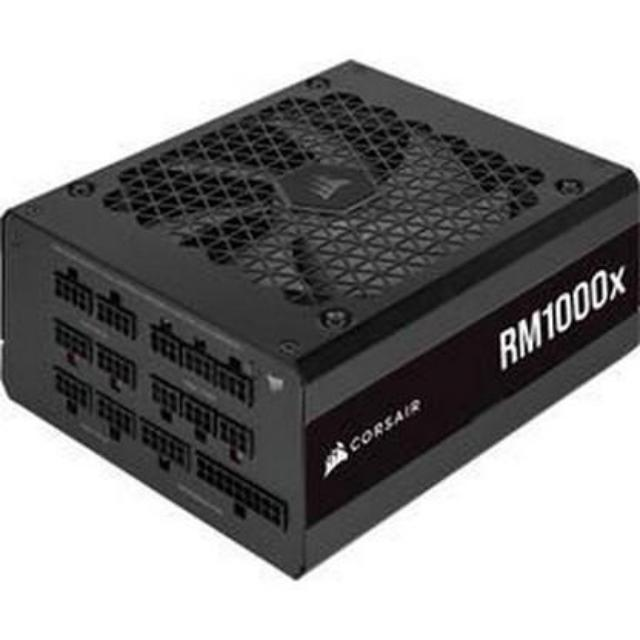PSU: (0, 46, 640, 584)
